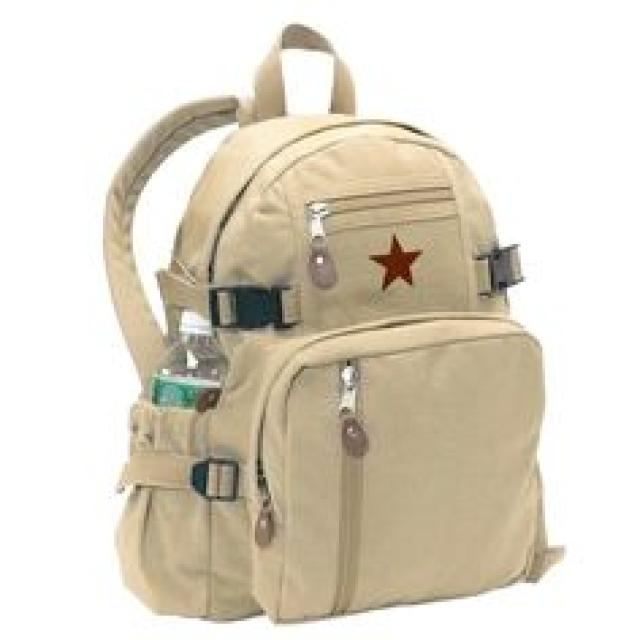backpack: (101, 23, 565, 625)
